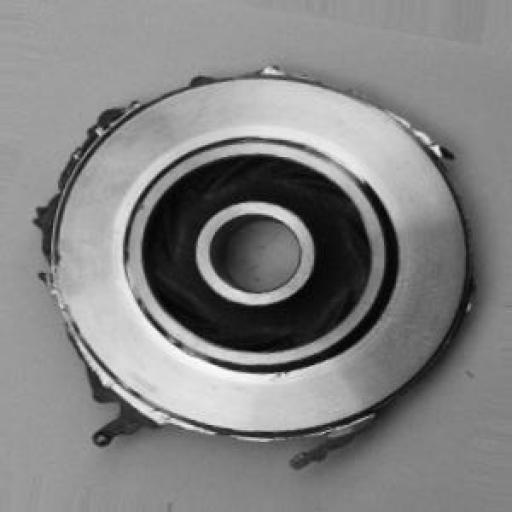defect: (25, 54, 491, 477)
